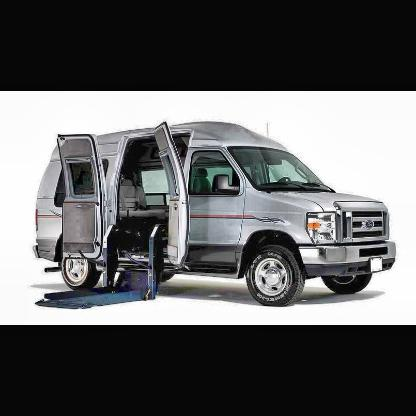Ford E-Series Wagon Van 2012: (34, 121, 398, 307)
